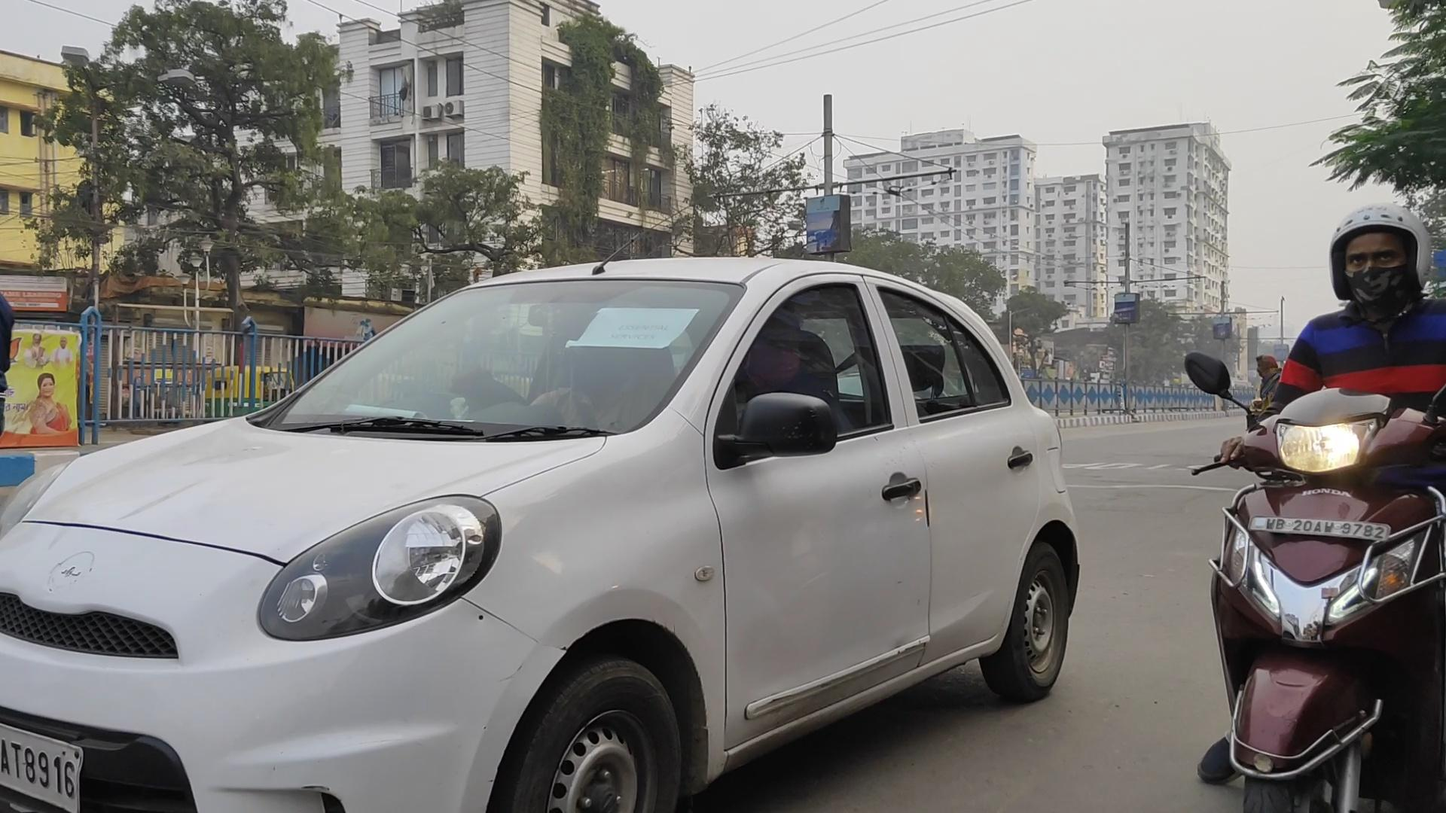bike: (1184, 203, 1446, 813)
car: (1, 253, 1078, 813)
